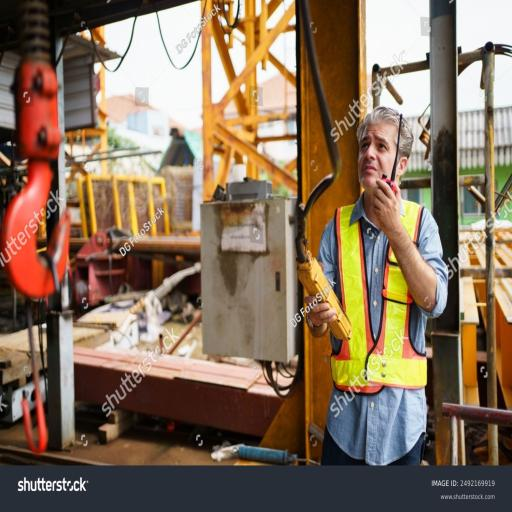no_helm: (332, 70, 440, 249)
